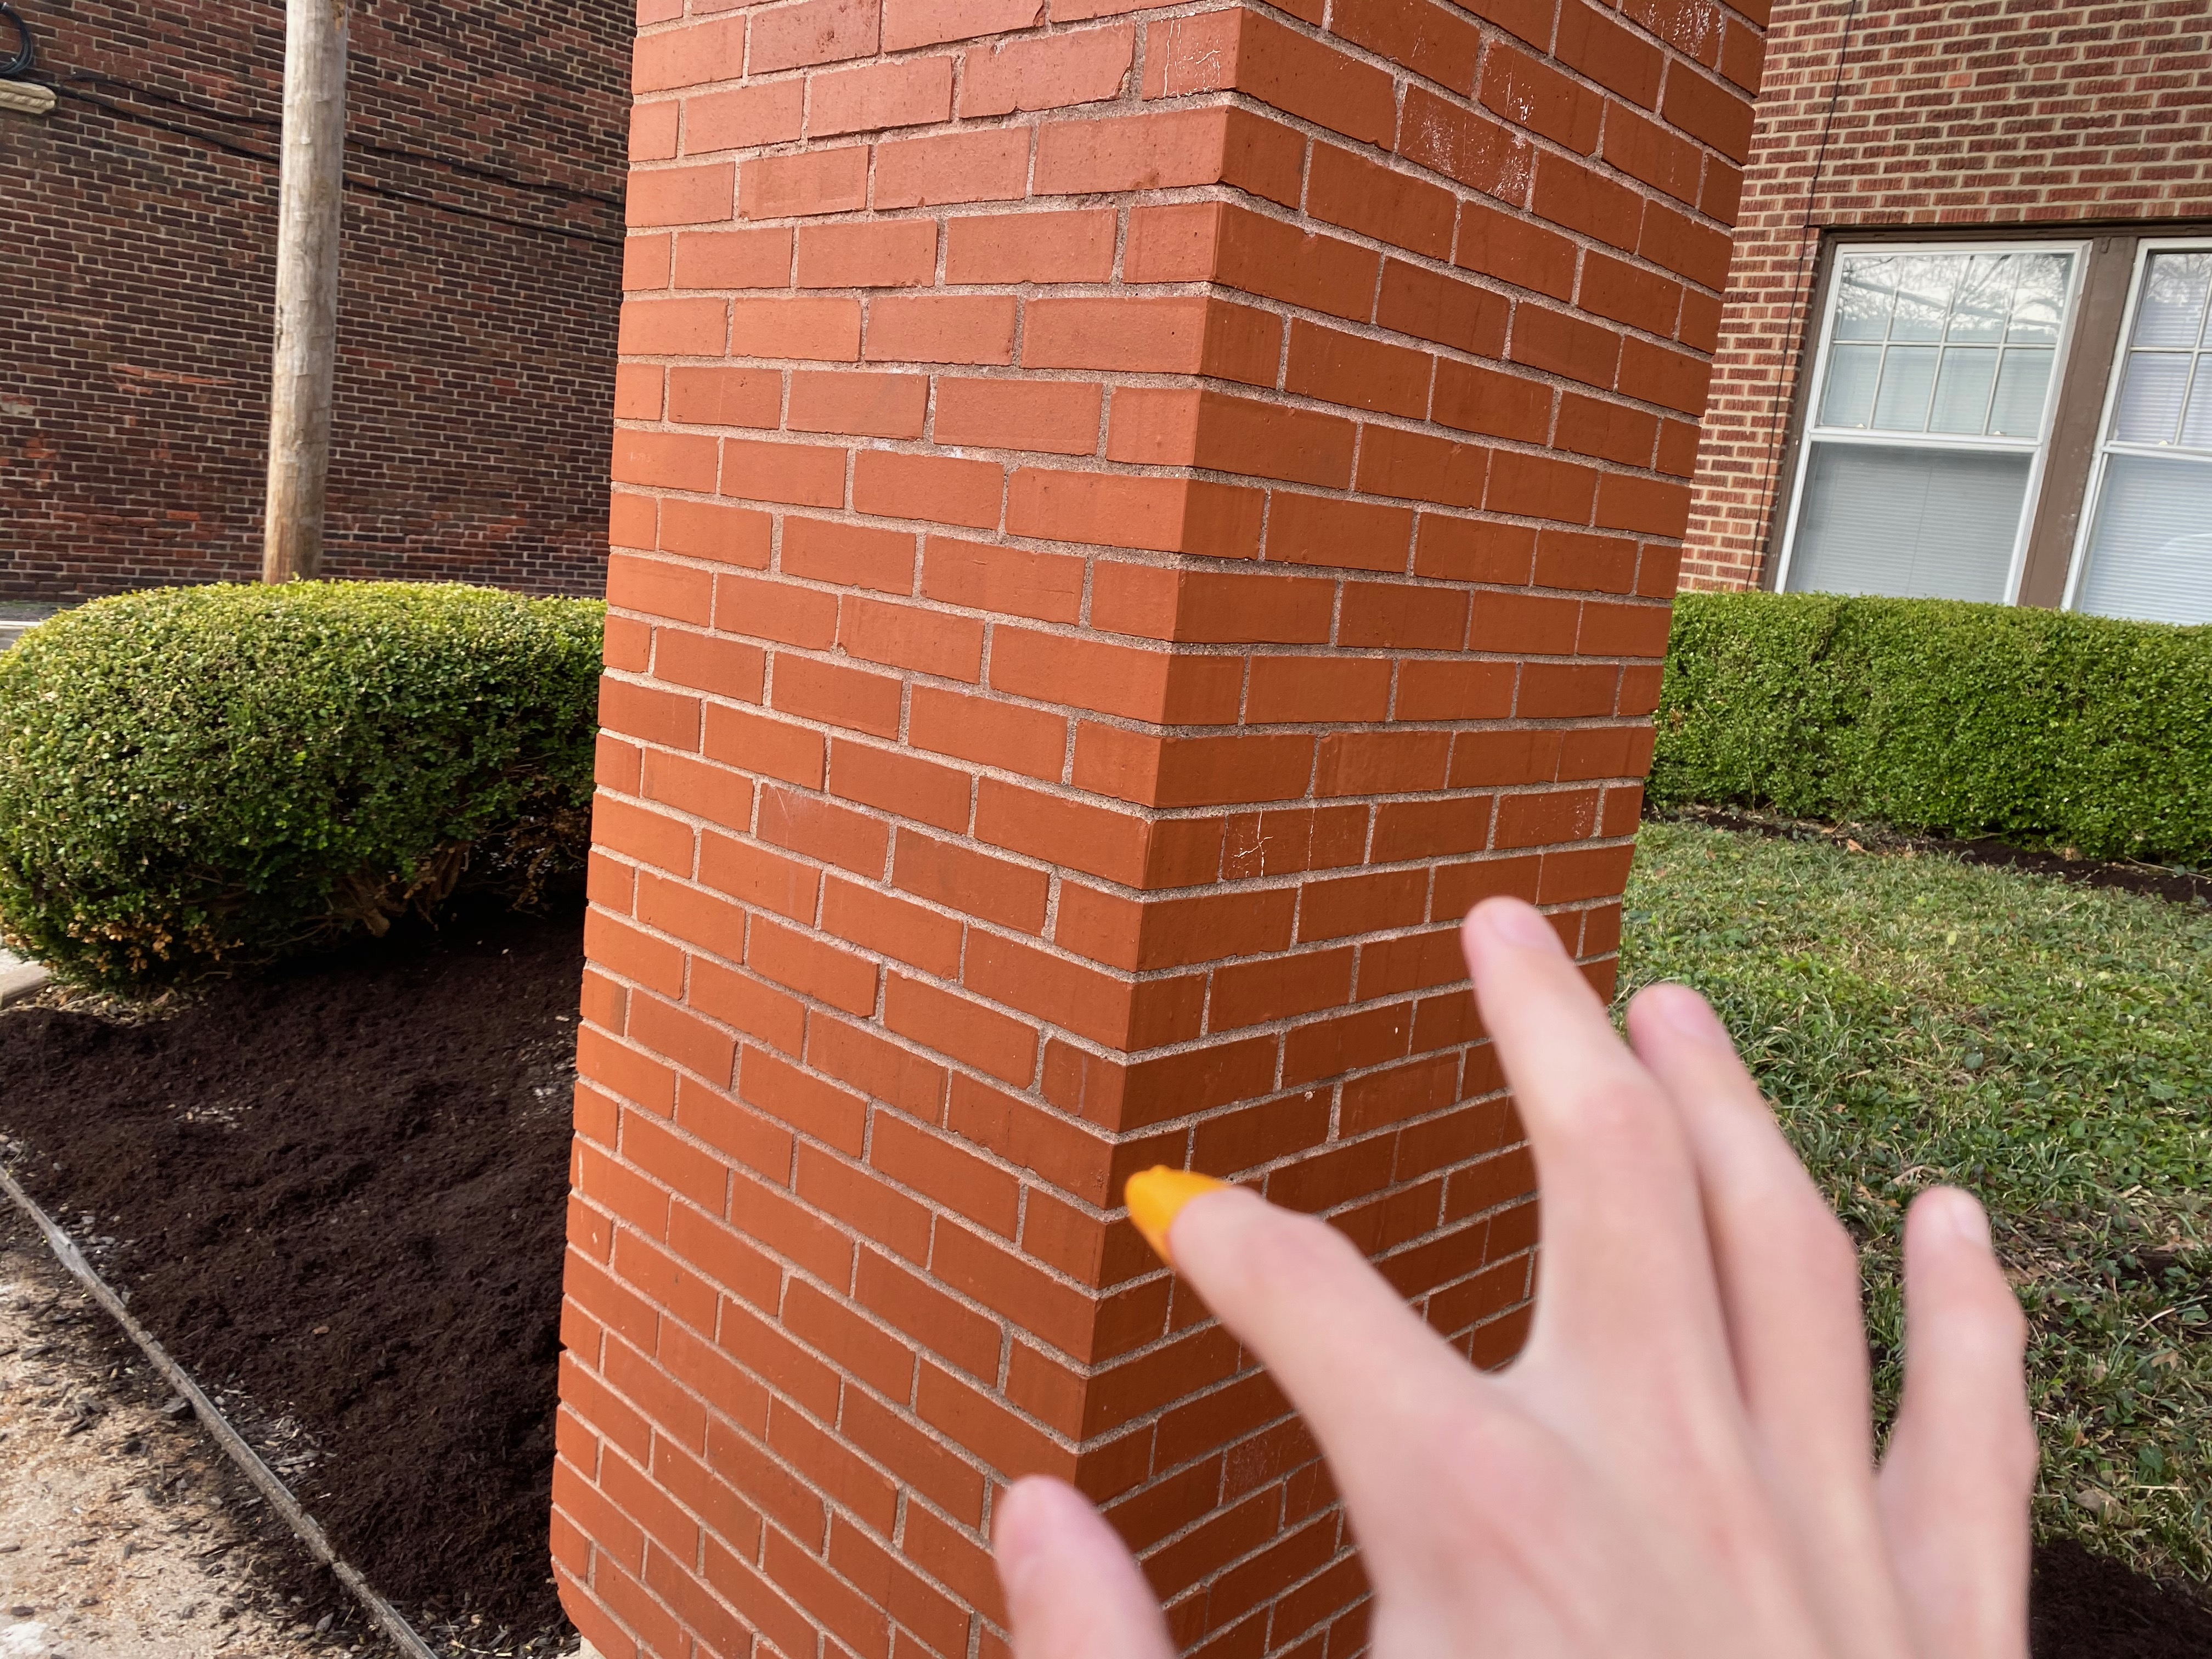fingertip: (1090, 1157, 1242, 1262)
